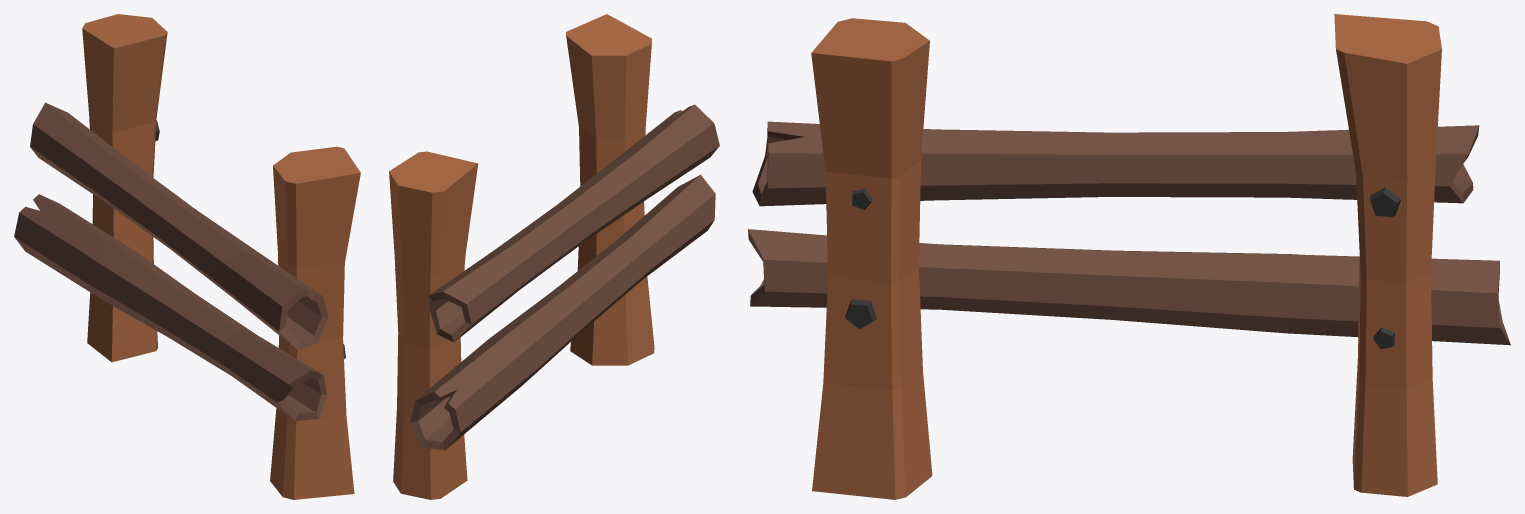
Rendered from Fence_01.fbx.
3 views of the same model, side by side, from view 1: azimuth 30°, elevation 25°; view 2: azimuth 150°, elevation 25°; view 3: azimuth 270°, elevation 25° (orthographic). The views are drawn at different scales.
Parts seen in each view (by area): view 1: Fence_01; view 2: Fence_01; view 3: Fence_01.
Boxes of the visible parts, <box> form: Fence_01: <box>14,14,360,499</box>; Fence_01: <box>389,14,719,499</box>; Fence_01: <box>748,14,1510,499</box>.
Size of the model in its own units: 23.48 by 64.25 by 100.
